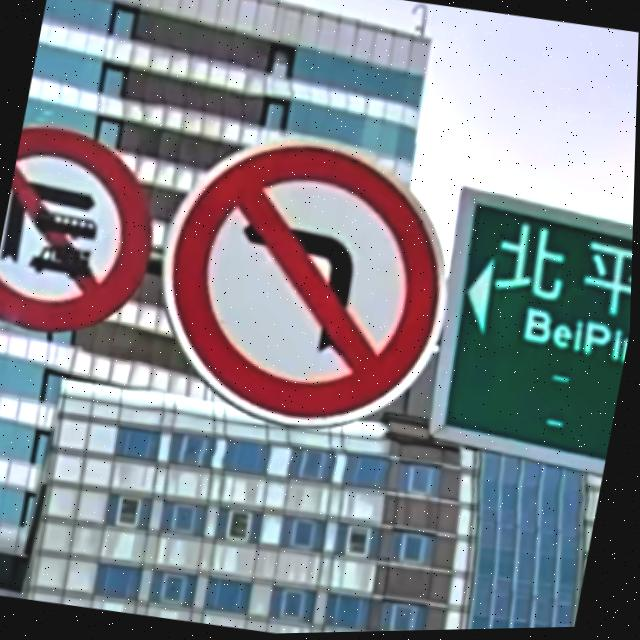noturnleft: (173, 150, 439, 420)
